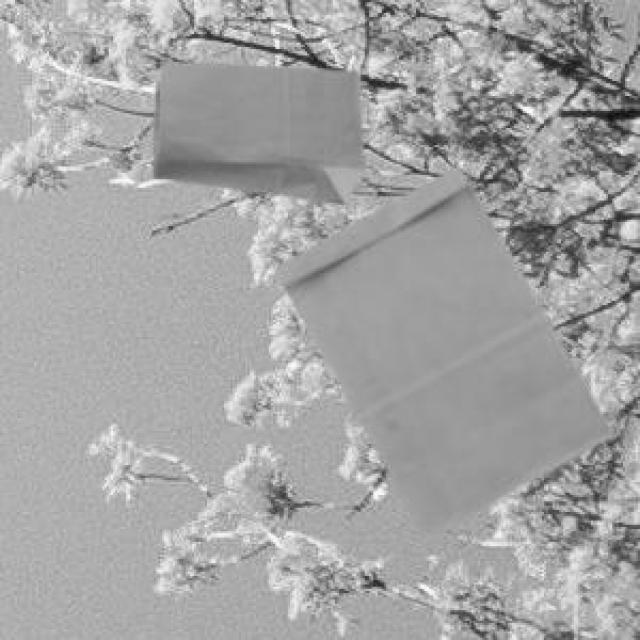paper: (273, 164, 608, 533), (150, 58, 361, 201)
